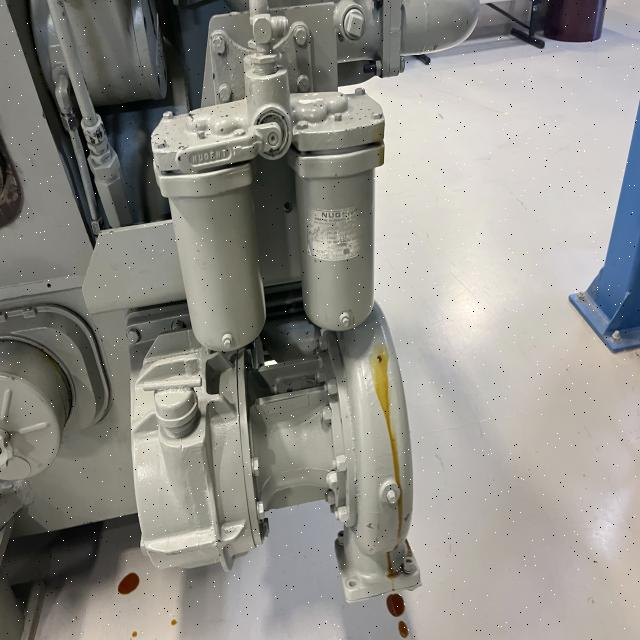Oil Leak: (367, 343, 408, 545), (369, 344, 401, 486), (114, 569, 144, 599), (384, 591, 408, 619), (386, 552, 404, 579), (398, 379, 407, 421), (396, 619, 410, 639), (400, 550, 406, 560), (171, 619, 177, 626), (131, 631, 137, 638)
